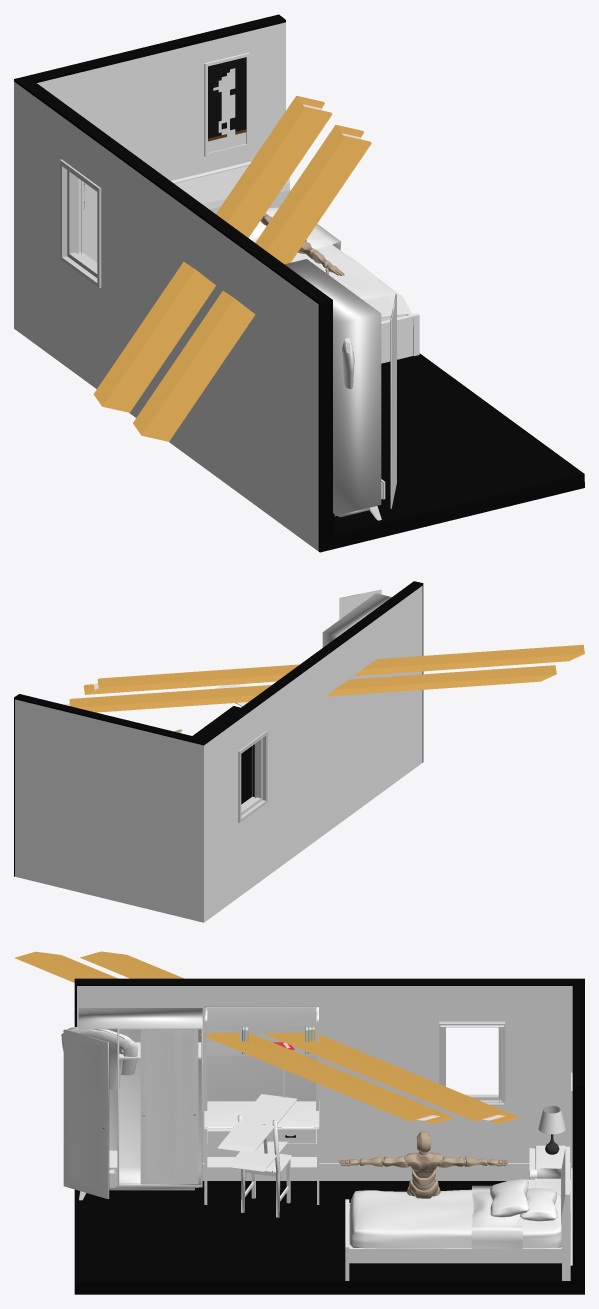
3 renders of one model, top to bottom at view 1: azimuth 30°, elevation 25°; view 2: azimuth 150°, elevation 25°; view 3: azimuth 270°, elevation 25°, orthographic. The views are drawn at different scales.
Parts seen in each view (by area): view 1: Room, Book 3.001, Book 3, Wardrobe, Painting, Window, Cube.004, Bed, Cube.007, Cube.016; view 2: Room, Book 3, Book 3.001, Window, Wardrobe, Cube.016; view 3: Room, Bed, Cube.026, Wardrobe, Cube.016, Cube.017, Book 3, Book 3.001, Cube.018, Alpha_Surface, Cube.001, Plane (+15 smaller).
Part boxes in pixels (x1=…): Room: x1=14, y1=14, x2=584, y2=552; Book 3.001: x1=93, y1=95, x2=332, y2=412; Book 3: x1=133, y1=124, x2=371, y2=441; Wardrobe: x1=285, y1=259, x2=381, y2=517; Painting: x1=204, y1=52, x2=249, y2=156; Window: x1=60, y1=159, x2=101, y2=287; Cube.004: x1=171, y1=161, x2=290, y2=213; Bed: x1=291, y1=244, x2=406, y2=321; Cube.007: x1=381, y1=313, x2=419, y2=363; Cube.016: x1=390, y1=294, x2=396, y2=508; Room: x1=14, y1=581, x2=423, y2=922; Book 3: x1=83, y1=644, x2=584, y2=694; Book 3.001: x1=64, y1=665, x2=556, y2=712; Window: x1=238, y1=730, x2=267, y2=822; Wardrobe: x1=322, y1=593, x2=391, y2=647; Cube.016: x1=339, y1=589, x2=381, y2=619; Room: x1=74, y1=978, x2=584, y2=1294; Bed: x1=349, y1=1189, x2=561, y2=1248; Cube.026: x1=204, y1=1006, x2=318, y2=1110; Wardrobe: x1=78, y1=1008, x2=202, y2=1190; Cube.016: x1=63, y1=1029, x2=109, y2=1198; Cube.017: x1=140, y1=1029, x2=180, y2=1184; Book 3: x1=14, y1=951, x2=454, y2=1123; Book 3.001: x1=80, y1=951, x2=520, y2=1123; Cube.018: x1=180, y1=1029, x2=198, y2=1183; Alpha_Surface: x1=339, y1=1131, x2=508, y2=1198; Cube.001: x1=349, y1=1203, x2=561, y2=1258; Plane: x1=471, y1=1185, x2=522, y2=1248.
Bounding box in the file's own units: 3.52 × 1.93 × 4.47.
